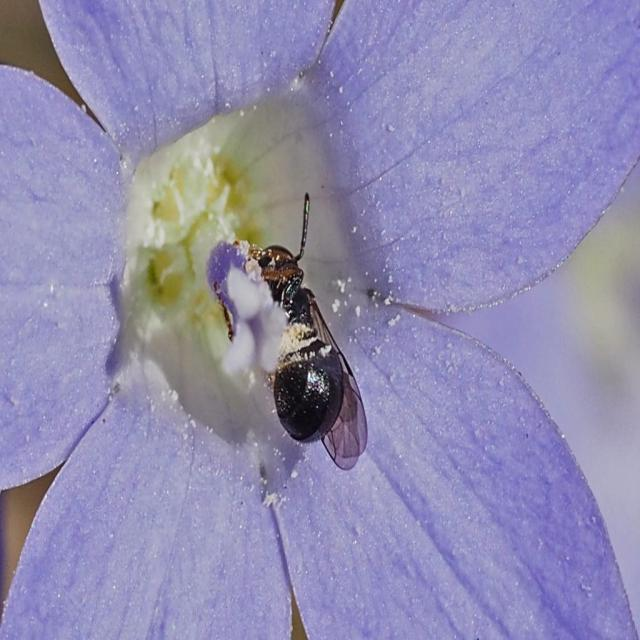Braunsapis: (238, 213, 386, 474)
